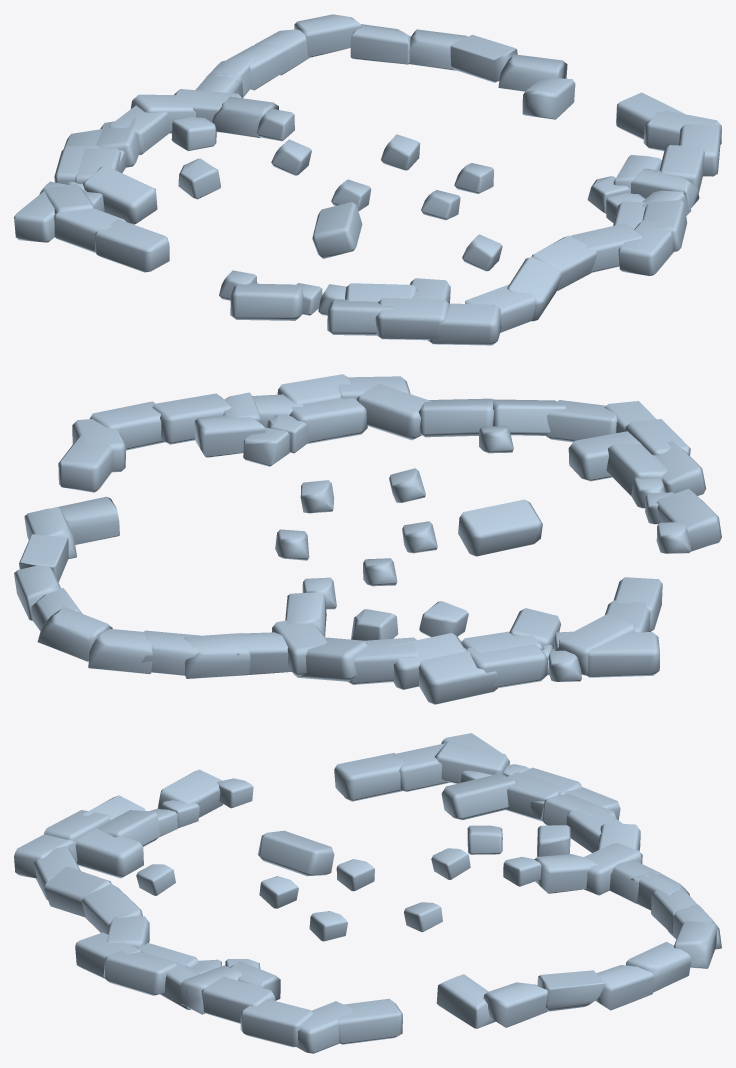
The model's file is Floor_Break_01D_Lod0.fbx.
3 views of the same model, one above another, from view 1: azimuth 30°, elevation 25°; view 2: azimuth 150°, elevation 25°; view 3: azimuth 270°, elevation 25° (orthographic). The views are drawn at different scales.
Visible parts, largest first — view 1: Floor_Break_01D_Lod0; view 2: Floor_Break_01D_Lod0; view 3: Floor_Break_01D_Lod0.
Boxes of the visible parts, x1,y1,x2,y2 form: Floor_Break_01D_Lod0: (14,14,721,345); Floor_Break_01D_Lod0: (14,374,721,704); Floor_Break_01D_Lod0: (14,733,721,1053).
Bounding box in the file's own units: 792 × 57.2 × 787.
